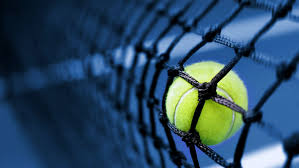tennis_ball: (164, 61, 248, 146)
